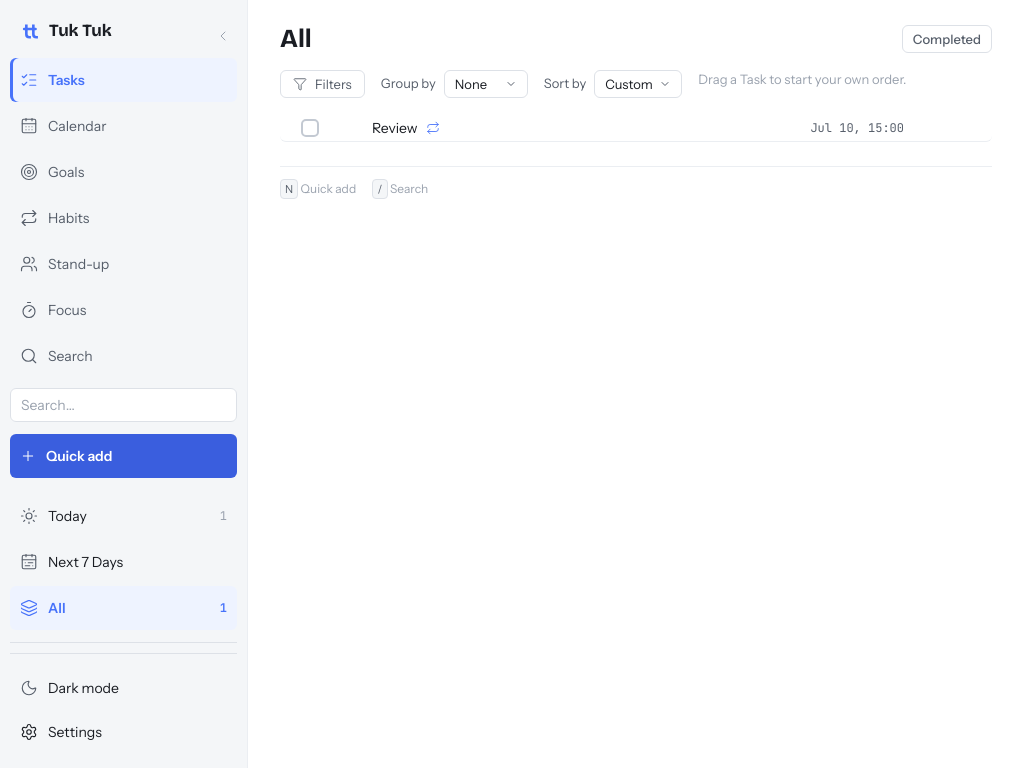
Test: Recurrence in the detail panel › removes the repeat
The image size is (1024, 768).
Click the button "Review" at (490, 128), box [372, 119, 608, 137]
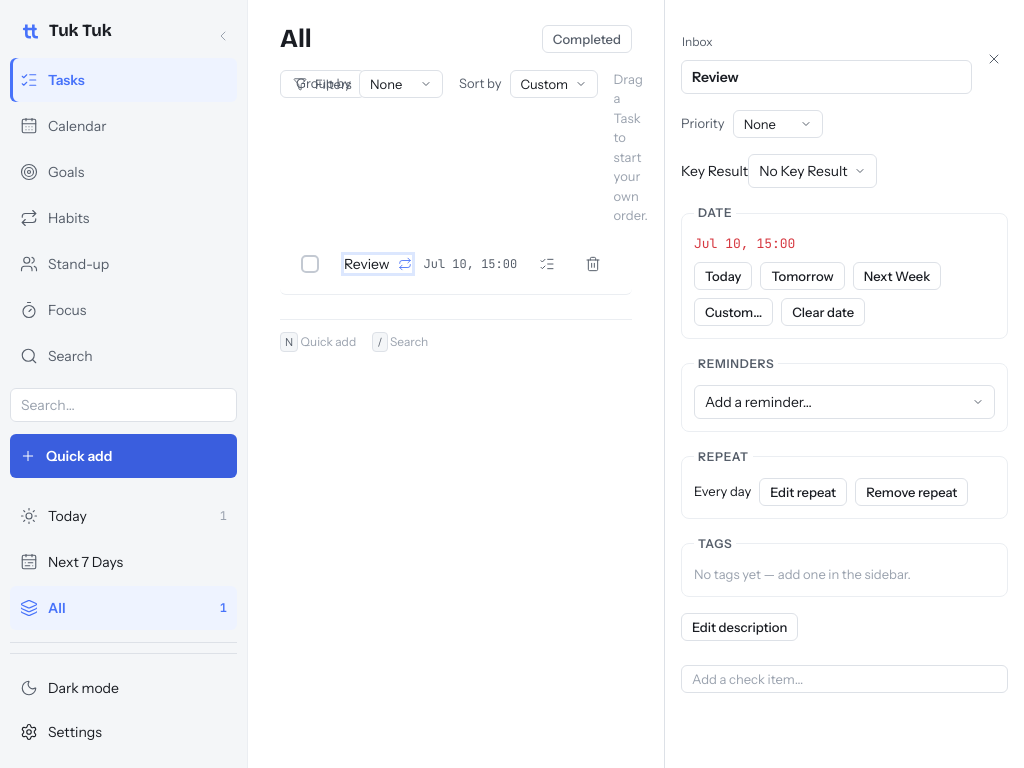
Click the button "Remove repeat" at (912, 492), box [855, 478, 968, 506]
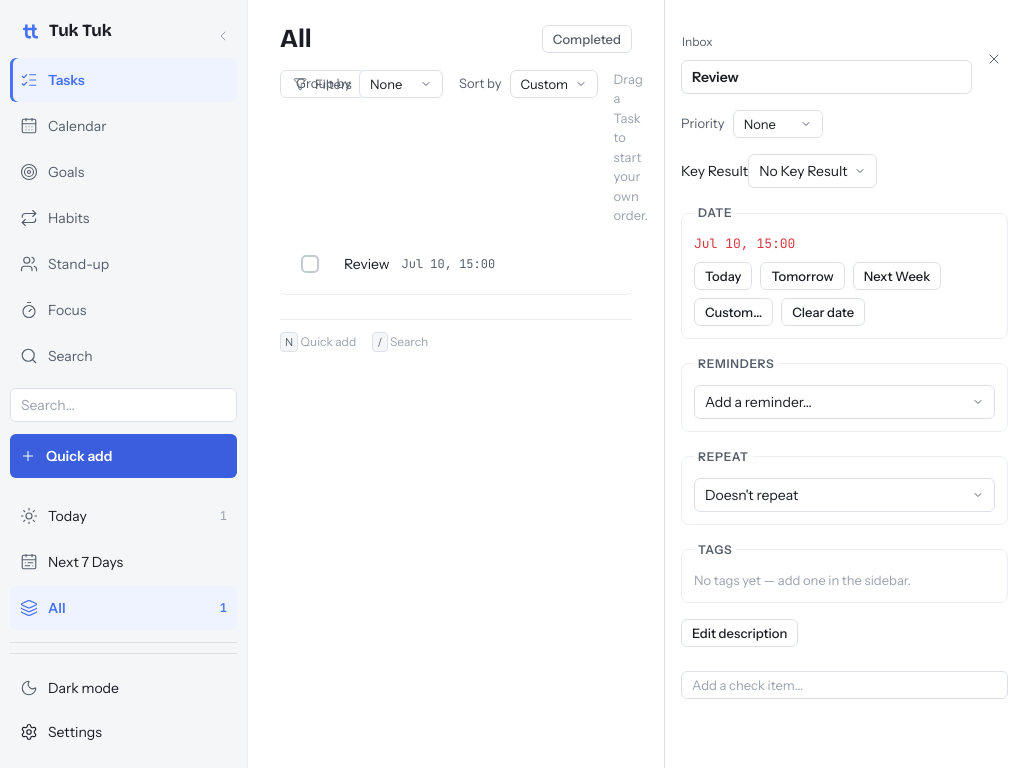
Check: the dropdown named "Repeat" is shown, box [694, 478, 995, 512]
